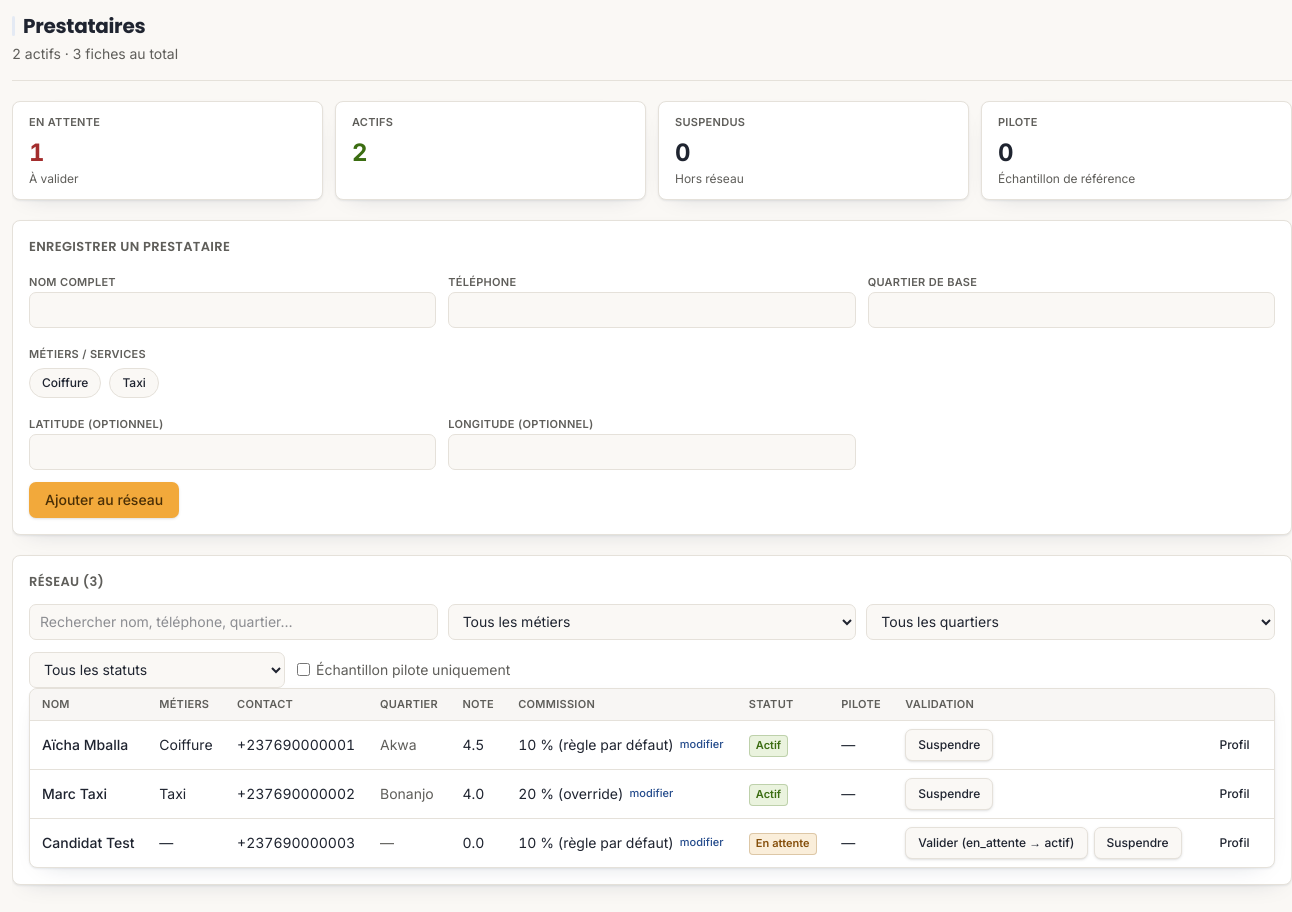
Test: Prestataires — annuaire, onboarding, validation de statut, filtres › valide le statut en_attente → actif puis suspend
This screenshot has width=1292, height=912.
Expected: the text "Candidat Test" is shown, [30, 819, 147, 867]
Step 1. Click the button "Valider (en_attente → actif)" → (996, 843), box [905, 827, 1088, 859]
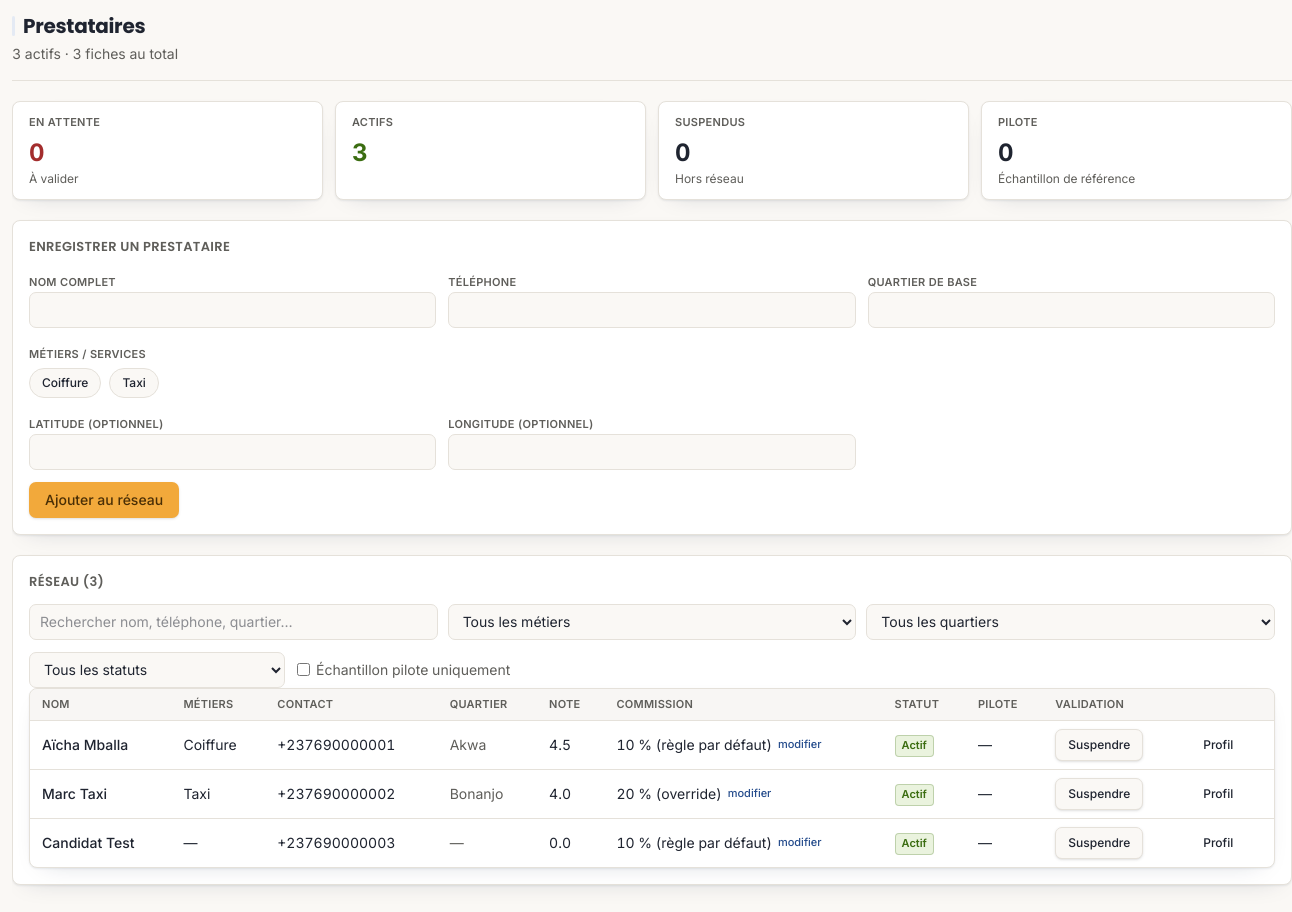
Now the text "Actif" in the row of "Candidat Test" is shown, box [902, 836, 927, 850]
Step 2. Click the button "Suspendre" in the row of "Candidat Test" → (1099, 843), box [1055, 827, 1143, 859]
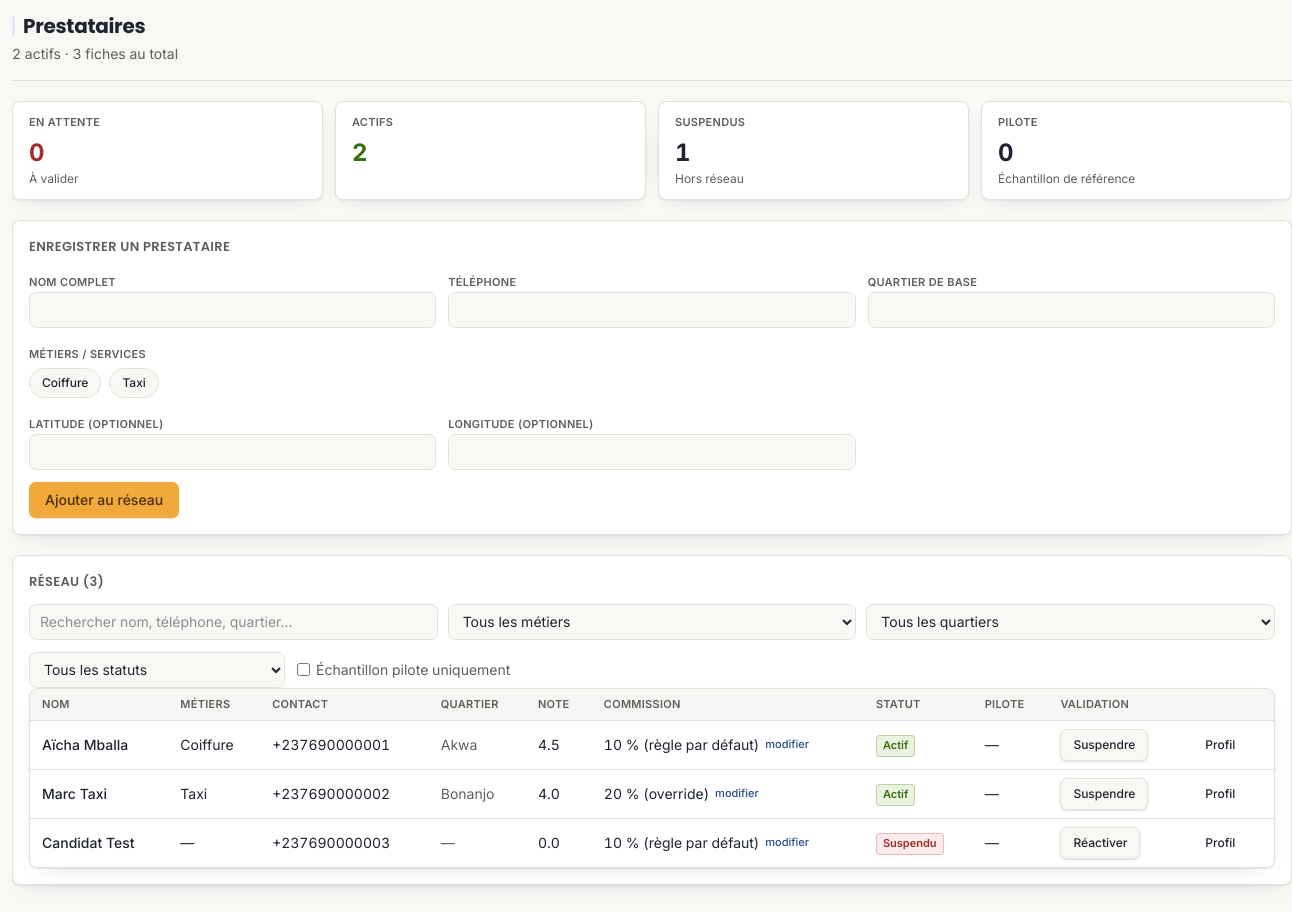
Now the text "Suspendu" is shown, box [876, 833, 944, 854]
